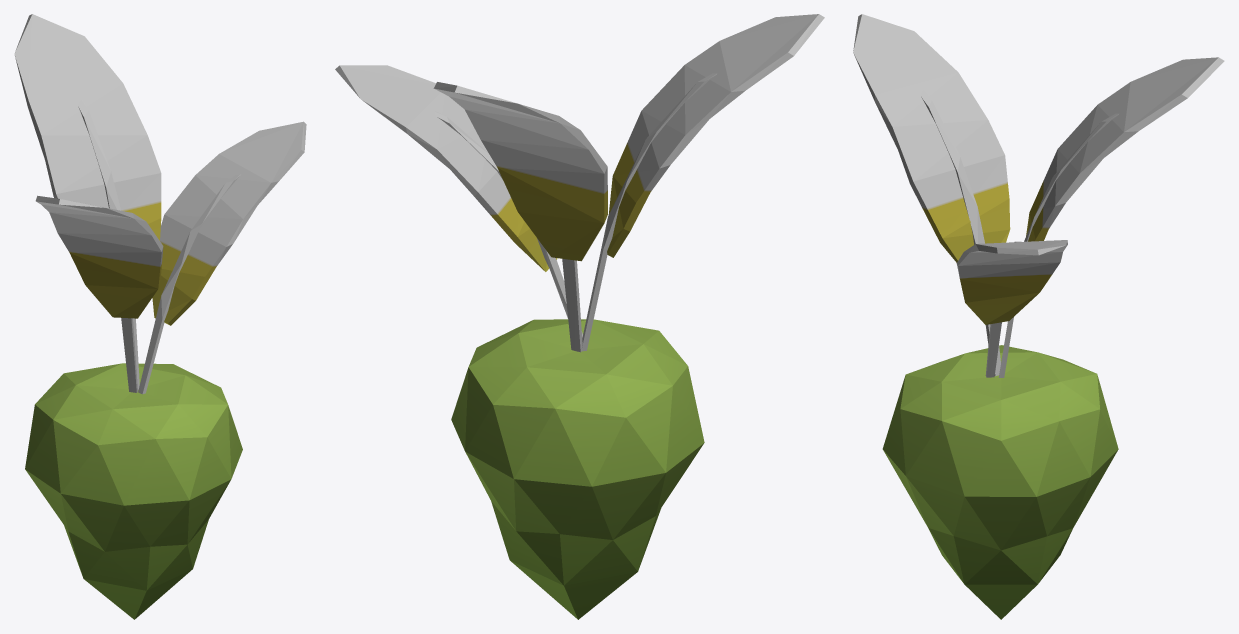
Rendered from Turnip_01.fbx.
The picture shows the model from 3 angles, left to right: view 1: azimuth 30°, elevation 25°; view 2: azimuth 150°, elevation 25°; view 3: azimuth 270°, elevation 25°; orthographic projection. The views are drawn at different scales.
Parts seen in each view (by area): view 1: Turnip_01; view 2: Turnip_01; view 3: Turnip_01.
Boxes of the visible parts, x1,y1,x2,y2 form: Turnip_01: (14, 14, 306, 619); Turnip_01: (335, 14, 824, 619); Turnip_01: (853, 14, 1224, 619).
Size of the model in its own units: 0.2988 by 0.4552 by 0.2724.
